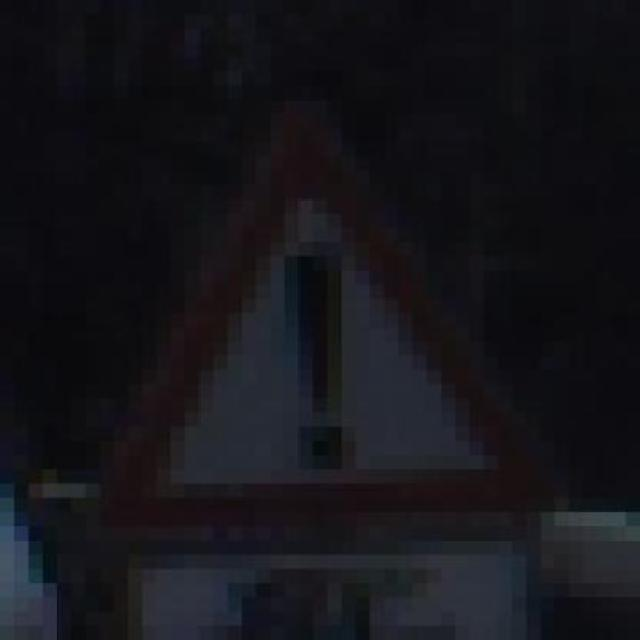Attention Please-: (57, 99, 555, 555)
